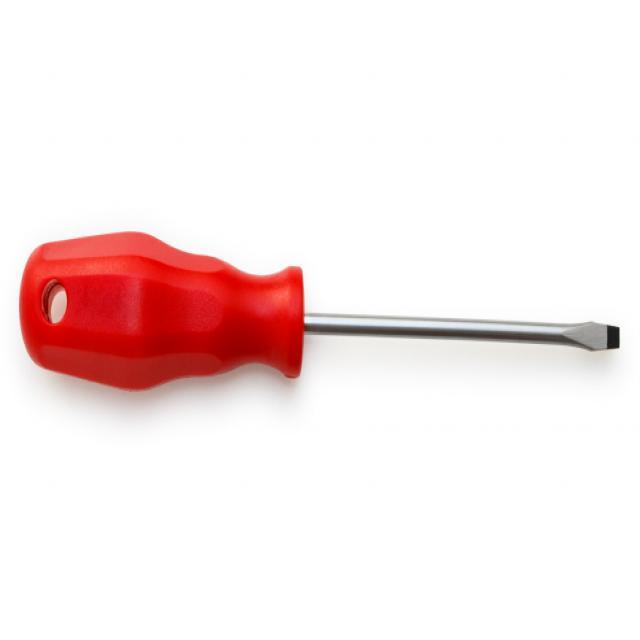screwdriver: (18, 226, 623, 396)
